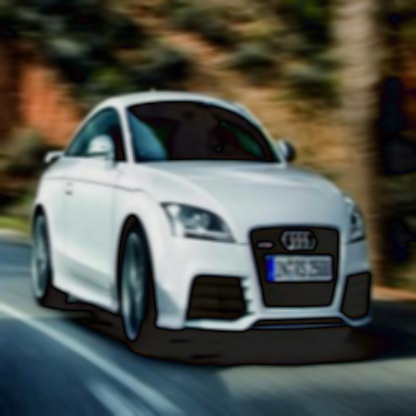Vehicle: (30, 90, 377, 346)
